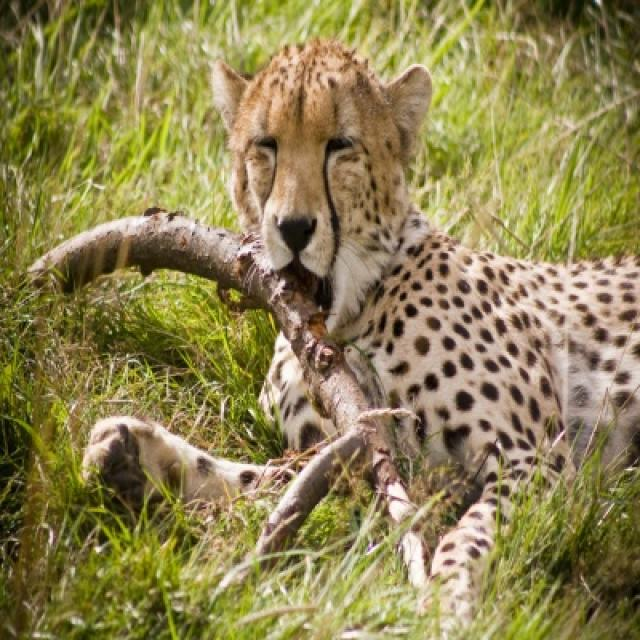Cheetah: (210, 38, 638, 621)
